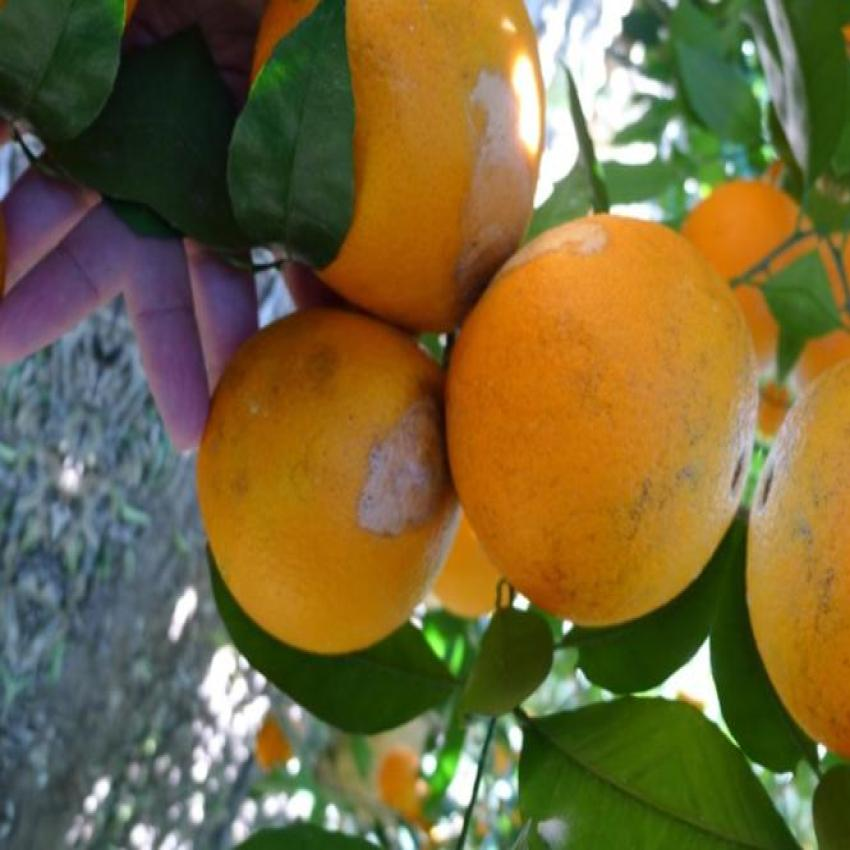Mal estado: (435, 220, 758, 673), (250, 0, 536, 334), (194, 317, 464, 640), (738, 354, 850, 764)
